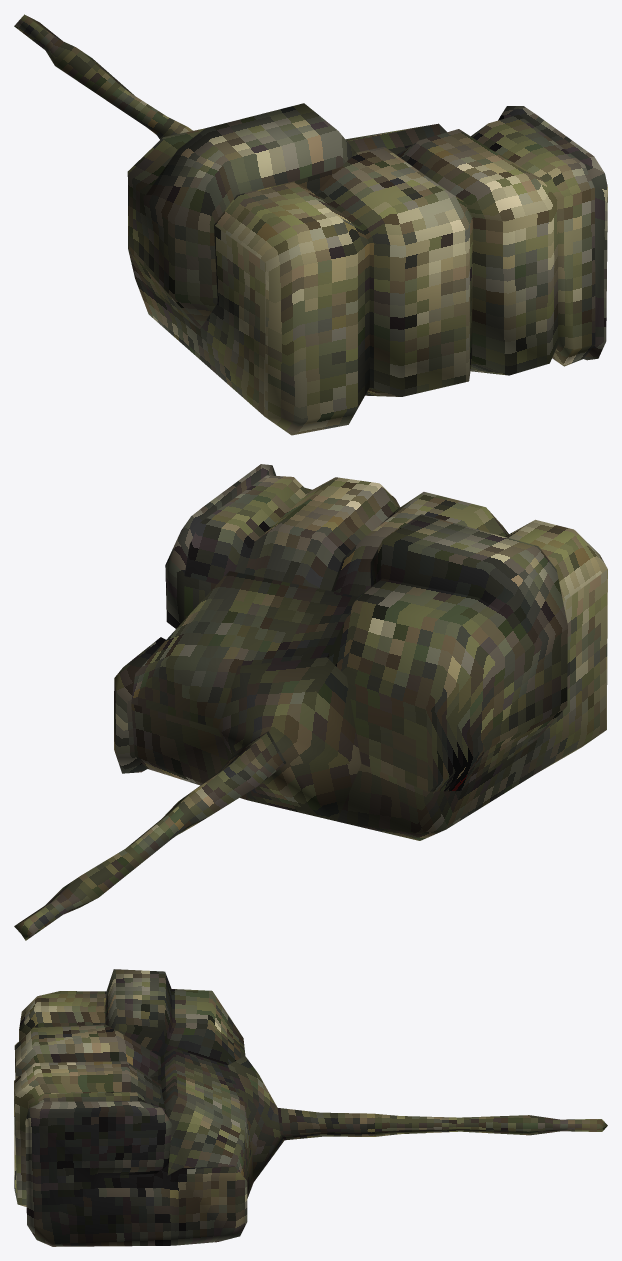
3 renders of one model, top to bottom at view 1: azimuth 30°, elevation 25°; view 2: azimuth 150°, elevation 25°; view 3: azimuth 270°, elevation 25°, orthographic. The views are drawn at different scales.
Bounding box in the file's own units: 92.9 × 60.39 × 187.
Materials: 1 (1 with a texture image).
